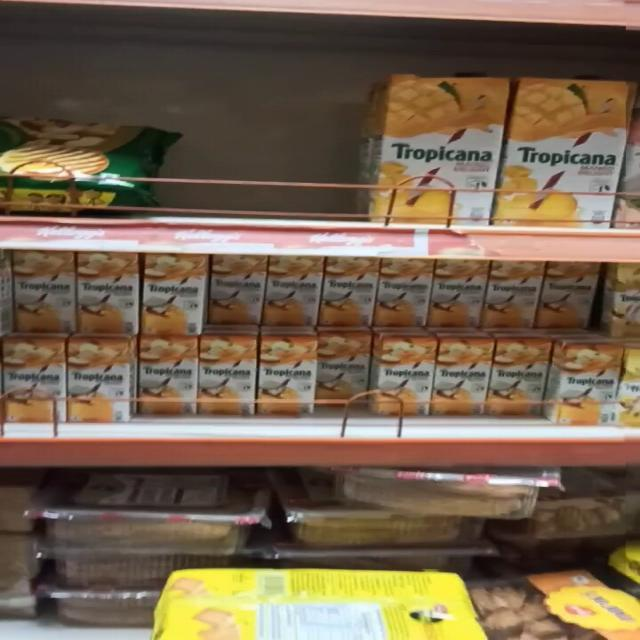Tropicana: (359, 68, 502, 230), (509, 70, 632, 236), (134, 252, 202, 338), (12, 252, 82, 334), (77, 252, 142, 338), (556, 342, 622, 426), (1, 342, 66, 422), (135, 338, 200, 410), (65, 339, 125, 415), (256, 337, 313, 415), (202, 336, 260, 412), (378, 338, 438, 410), (436, 340, 490, 418), (206, 255, 264, 327), (482, 258, 540, 330), (323, 256, 384, 324), (488, 342, 548, 410), (265, 256, 322, 326), (374, 262, 432, 330), (534, 258, 590, 328), (433, 256, 483, 332), (316, 338, 370, 402)
